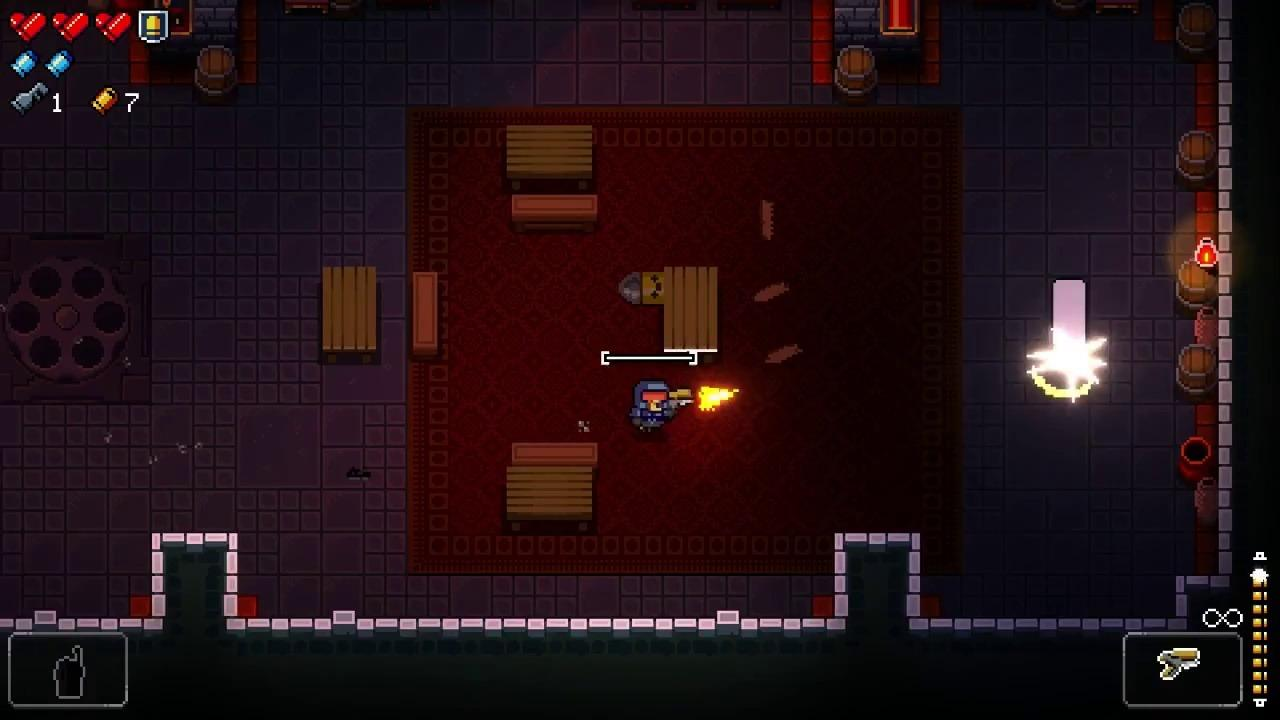player: (630, 380, 672, 434)
table: (506, 126, 593, 190), (507, 468, 593, 532), (321, 266, 377, 363), (666, 266, 717, 363)
teleporter: (0, 231, 152, 405)
